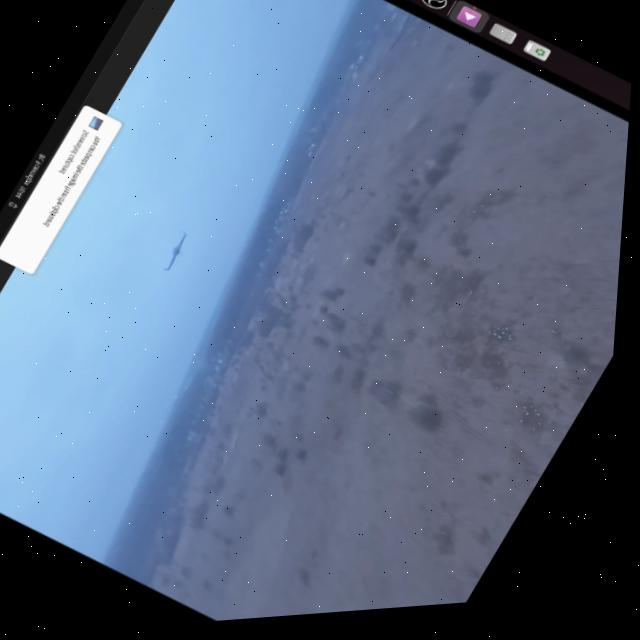planedrone: (147, 223, 199, 281)
